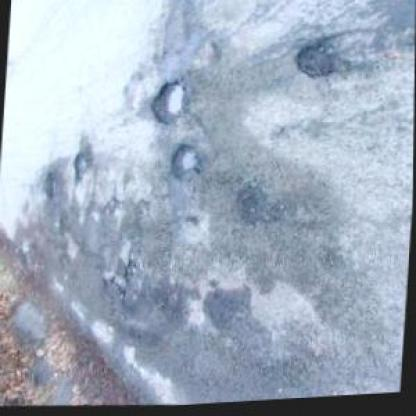pothole: (202, 286, 251, 332), (144, 79, 186, 128), (232, 186, 270, 230), (293, 43, 334, 83), (164, 142, 204, 180), (152, 286, 184, 324), (70, 150, 88, 186), (40, 169, 60, 200), (108, 274, 126, 292), (123, 261, 140, 280)
